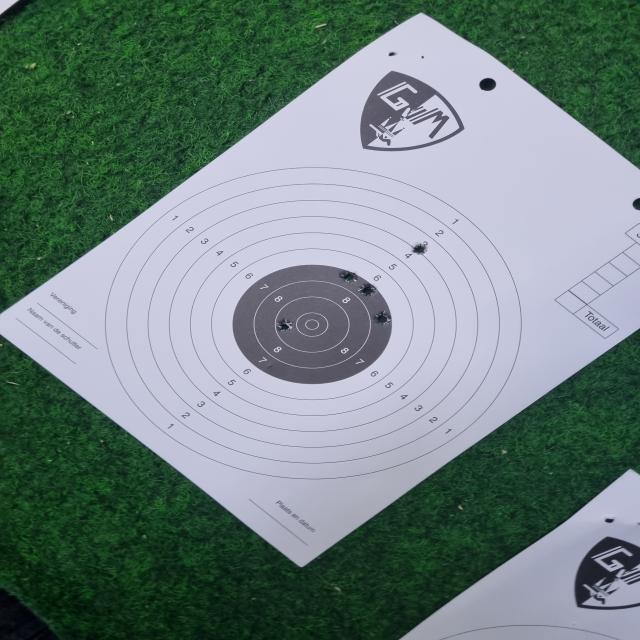10: (276, 319, 292, 332)
5: (412, 244, 428, 255)
8: (374, 310, 391, 326), (358, 284, 377, 297), (340, 270, 358, 283)
Black Contour: (232, 264, 392, 385)
Target: (105, 166, 522, 479)
